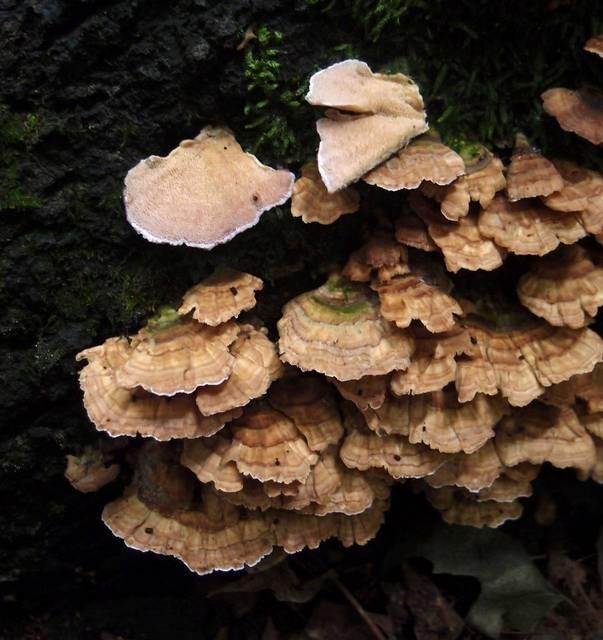Non-edible Mushroom: (57, 54, 603, 541), (120, 122, 295, 250)
